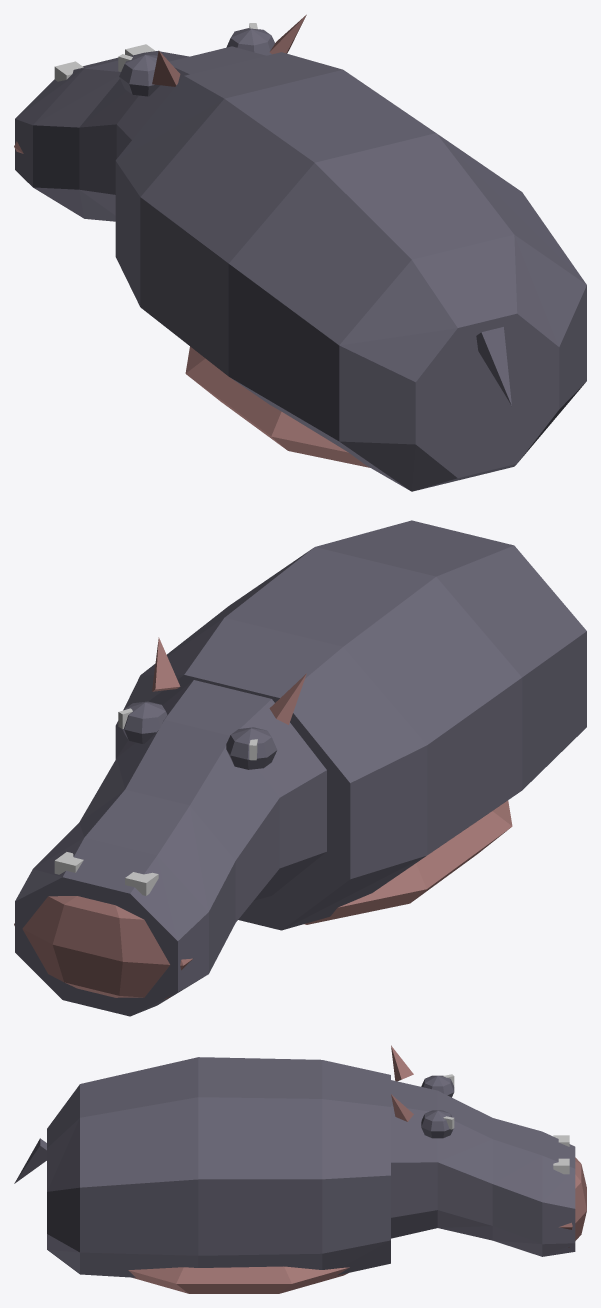
The model's file is animal_hippo.obj.
3 renders of one model, top to bottom at view 1: azimuth 30°, elevation 25°; view 2: azimuth 150°, elevation 25°; view 3: azimuth 270°, elevation 25°, orthographic. The views are drawn at different scales.
Parts seen in each view (by area): view 1: animal_hippo; view 2: animal_hippo; view 3: animal_hippo.
Boxes of the visible parts, x1,y1,x2,y2 form: animal_hippo: (14,14,586,491); animal_hippo: (14,520,586,1016); animal_hippo: (14,1045,586,1293).
Bounding box in the file's own units: 0.6818 × 0.6724 × 1.71.
